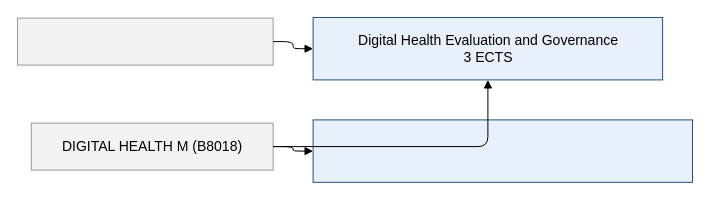
Image size: 710x200. Some labels were removed from this diagram. The centre of each missing label's shape, as x and y in pixels:
"Computer Science (07276-C)" goes at pixel 144 41.
"Digital Health Applications and Interventions 3 ECTS" goes at pixel 502 150.
